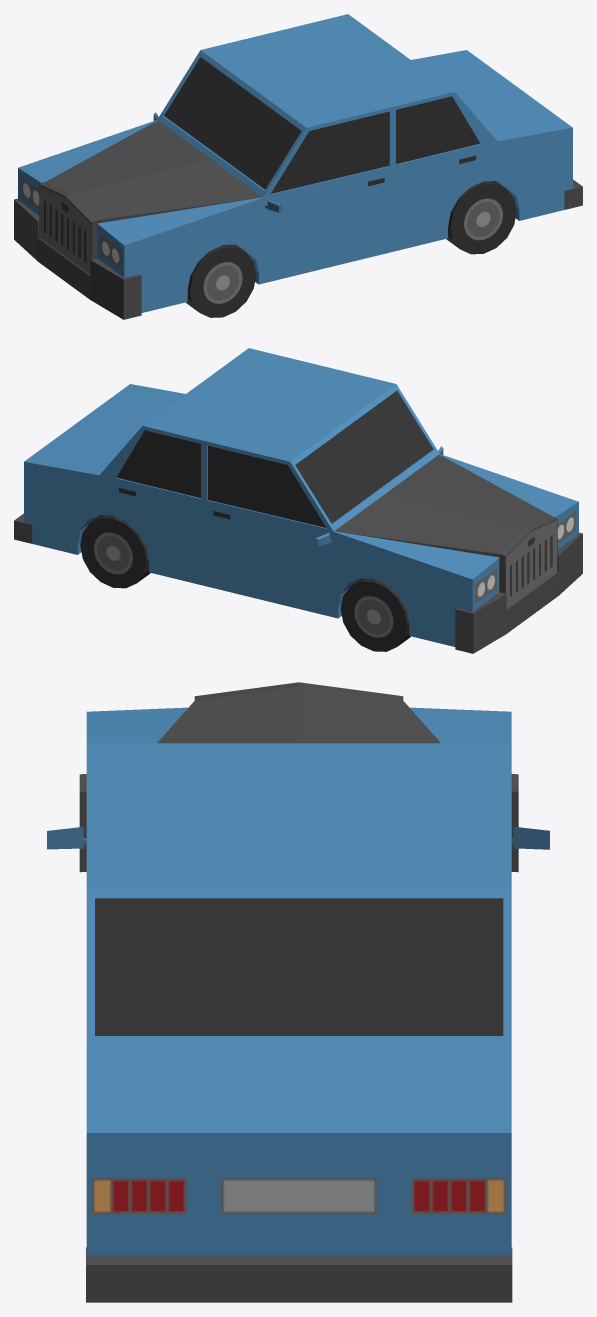
The model's file is vehicle.glb.
3 renders of one model, top to bottom at view 1: azimuth 30°, elevation 25°; view 2: azimuth 150°, elevation 25°; view 3: azimuth 270°, elevation 25°, orthographic. The views are drawn at different scales.
Visible parts, largest first — view 1: Vehicle_Car_color02.000; view 2: Vehicle_Car_color02.000; view 3: Vehicle_Car_color02.000.
Part boxes in pixels (x1,y1,x2,y2): Vehicle_Car_color02.000: [14, 14, 582, 319]; Vehicle_Car_color02.000: [14, 348, 582, 653]; Vehicle_Car_color02.000: [47, 682, 549, 1302].
Size of the model in its own units: 2.29 by 0.7942 by 1.07.
1 material, 1 textured.
